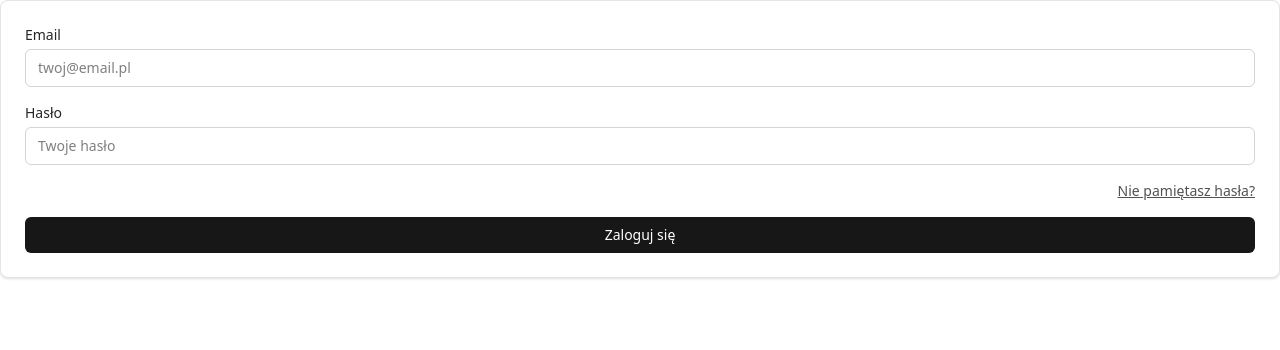
Test case: LoginForm › mapuje INVALID_CREDENTIALS na klucz errors.invalid_credentials
Type "a@b.com" into the field labelled "Email".
click(640, 68); type("a@b.com")  # box [25,49,1255,87]
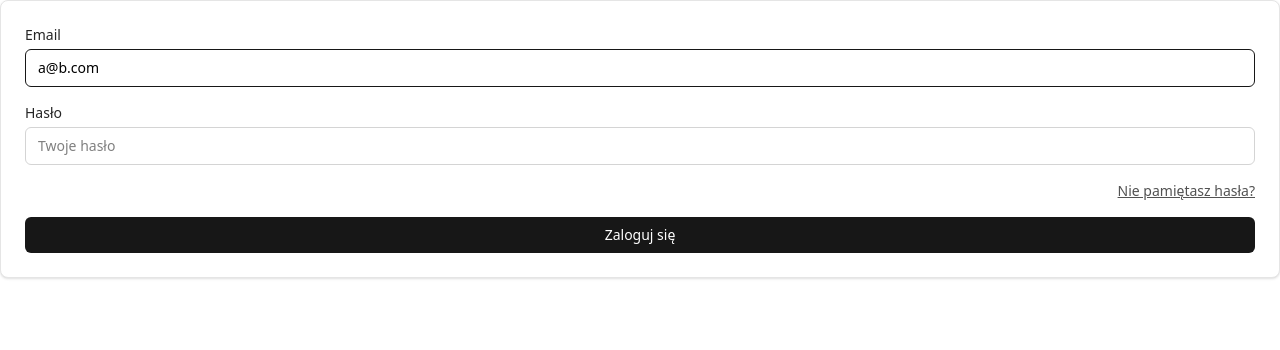
Type "badpass" into the password field labelled "Hasło".
click(640, 146); type("badpass")  # box [25,127,1255,165]
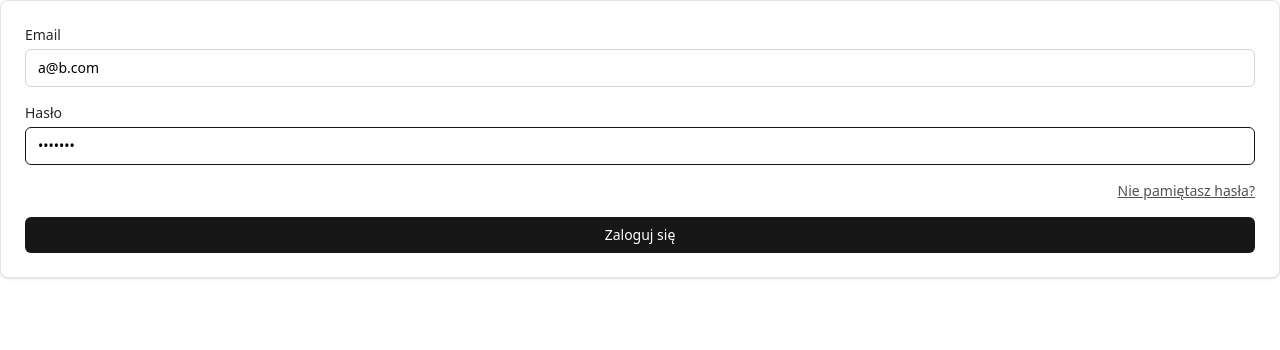
Click the button "Zaloguj się".
click(640, 235)  # box [25,217,1255,253]
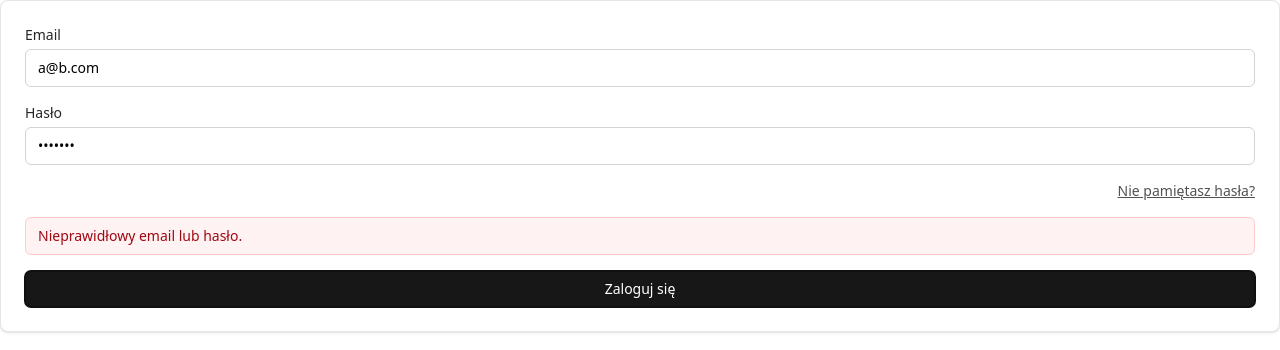
Expected: the message reads "Nieprawidłowy email lub hasło.", [38,226,242,245]
